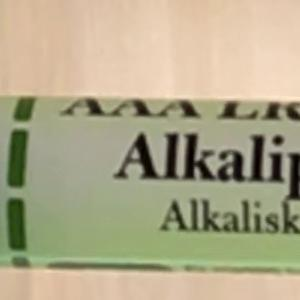ALK: (104, 122, 190, 190)
